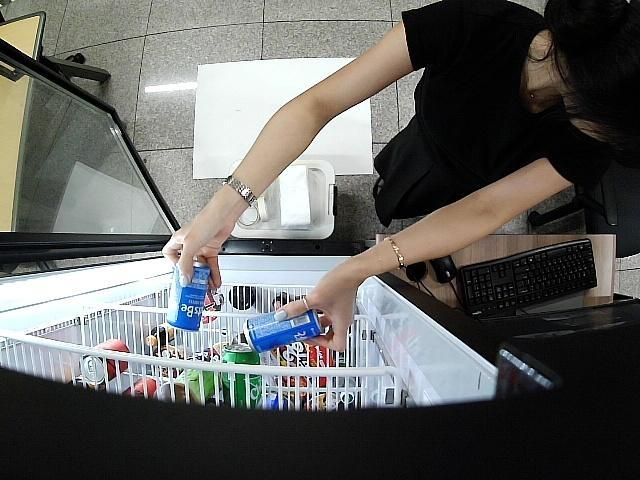15_letsbe: (244, 302, 325, 350), (168, 262, 210, 331)
